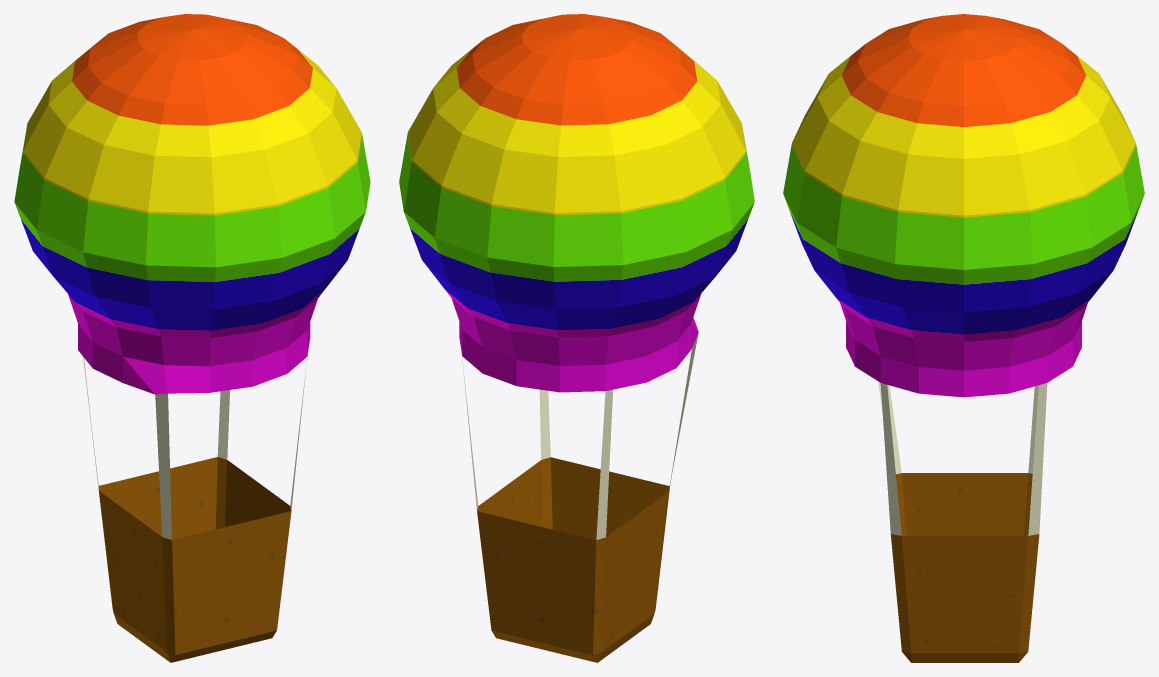
File: 棒棒糖熱氣球1版.fbx
The picture shows the model from 3 angles, left to right: view 1: azimuth 30°, elevation 25°; view 2: azimuth 150°, elevation 25°; view 3: azimuth 270°, elevation 25°; orthographic projection.
Parts seen in each view (by area): view 1: 球體; view 2: 球體; view 3: 球體.
Part boxes in pixels (x1,y1,x2,y2): 球體: (14, 14, 370, 662); 球體: (399, 14, 754, 662); 球體: (783, 14, 1144, 662).
Bounding box in the file's own units: 730 × 730 × 1351.
